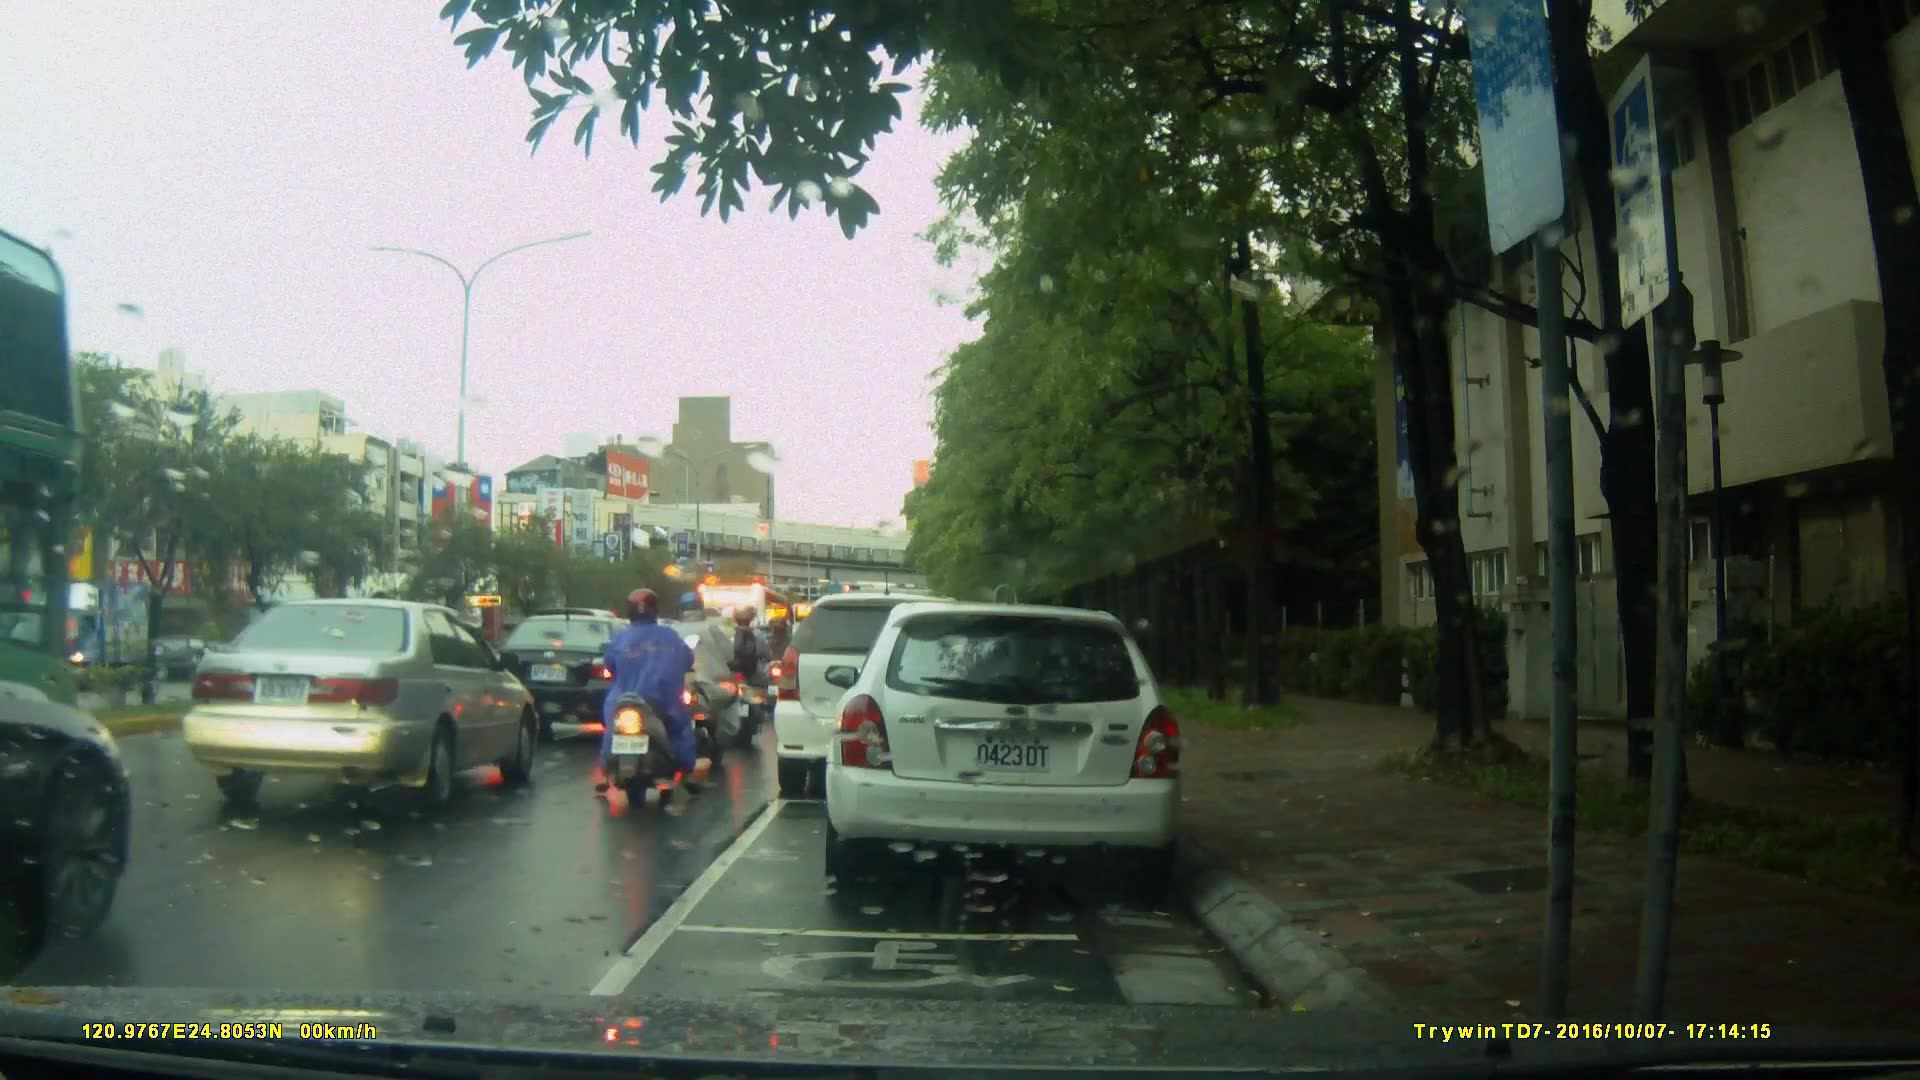rider: (589, 586, 696, 809), (679, 589, 755, 767), (714, 603, 767, 728)
vehicle: (831, 592, 1196, 897), (176, 597, 551, 813), (769, 592, 999, 800), (483, 611, 666, 744), (688, 581, 805, 706), (22, 576, 156, 679)
